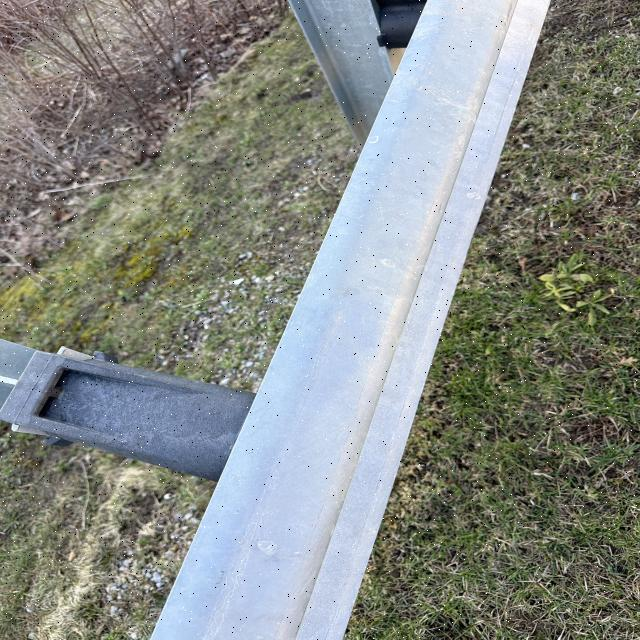Guard rail: (14, 9, 540, 472)
